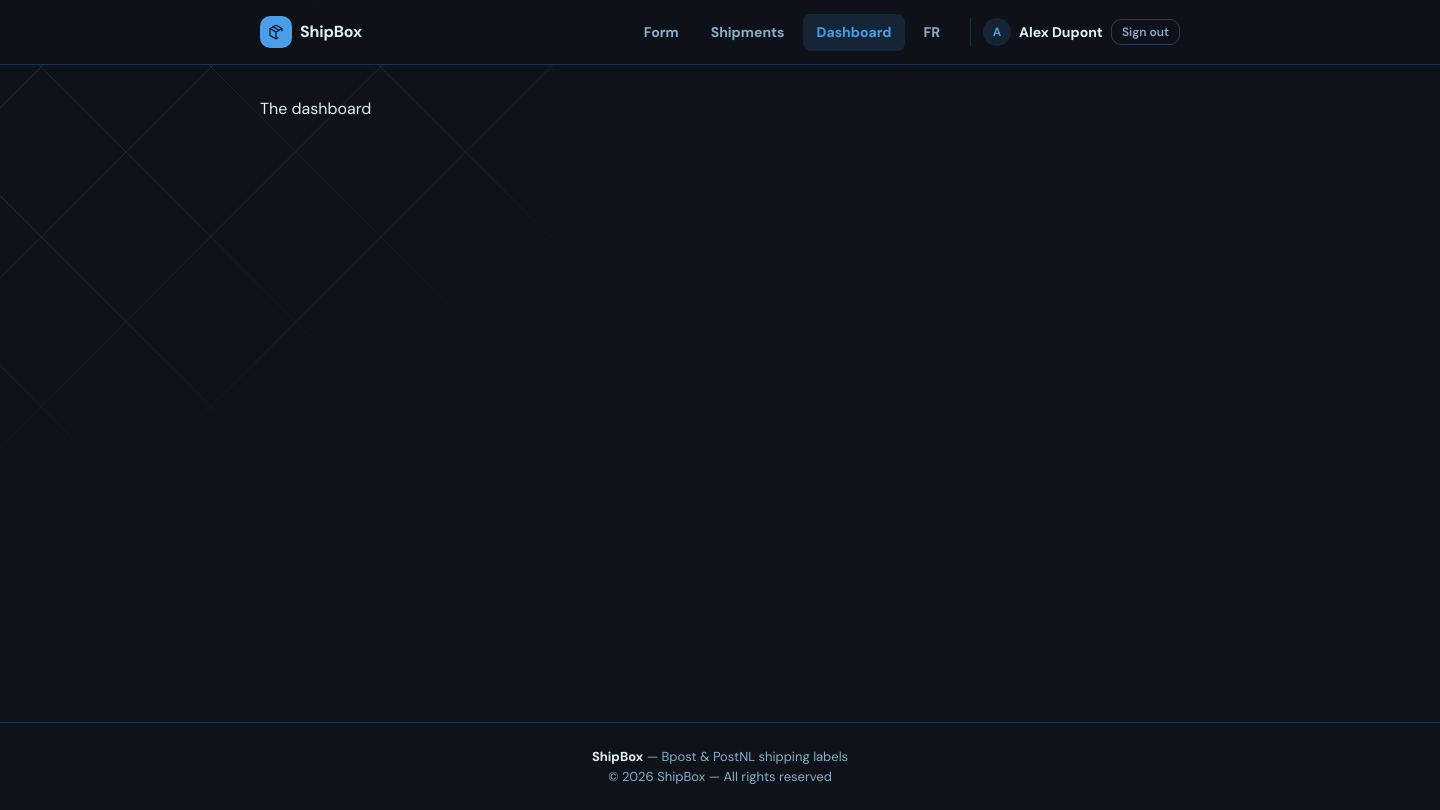
Test: someone signed in › signs out and goes back home
The width and height of the screenshot is (1440, 810).
What coordinates should you click on to do the following:
click the button "Sign out"
I would click on:
 (1145, 32)
Its box is [1111,19,1180,45].
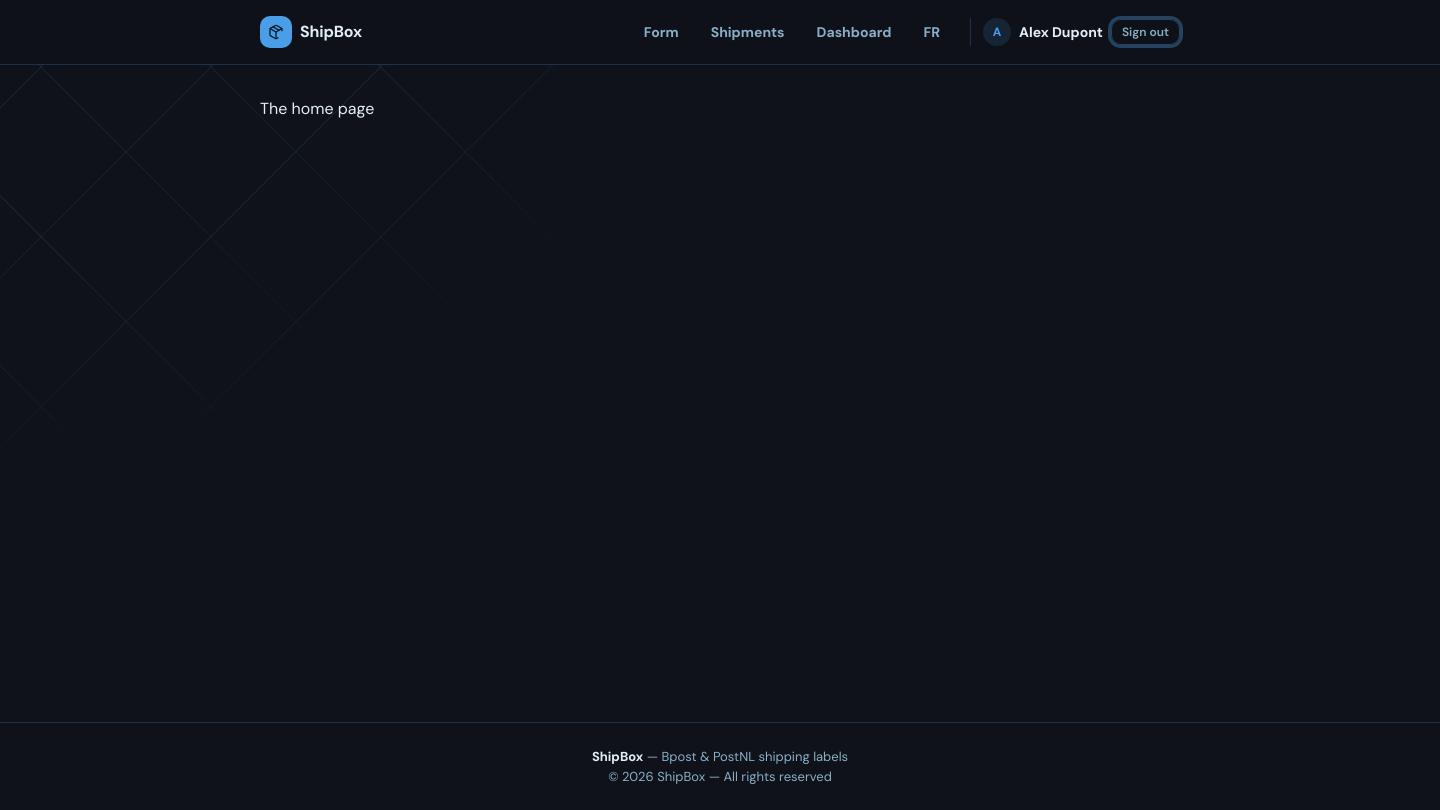
expect the text "The home page" is shown: met, box [260,98,374,119]
